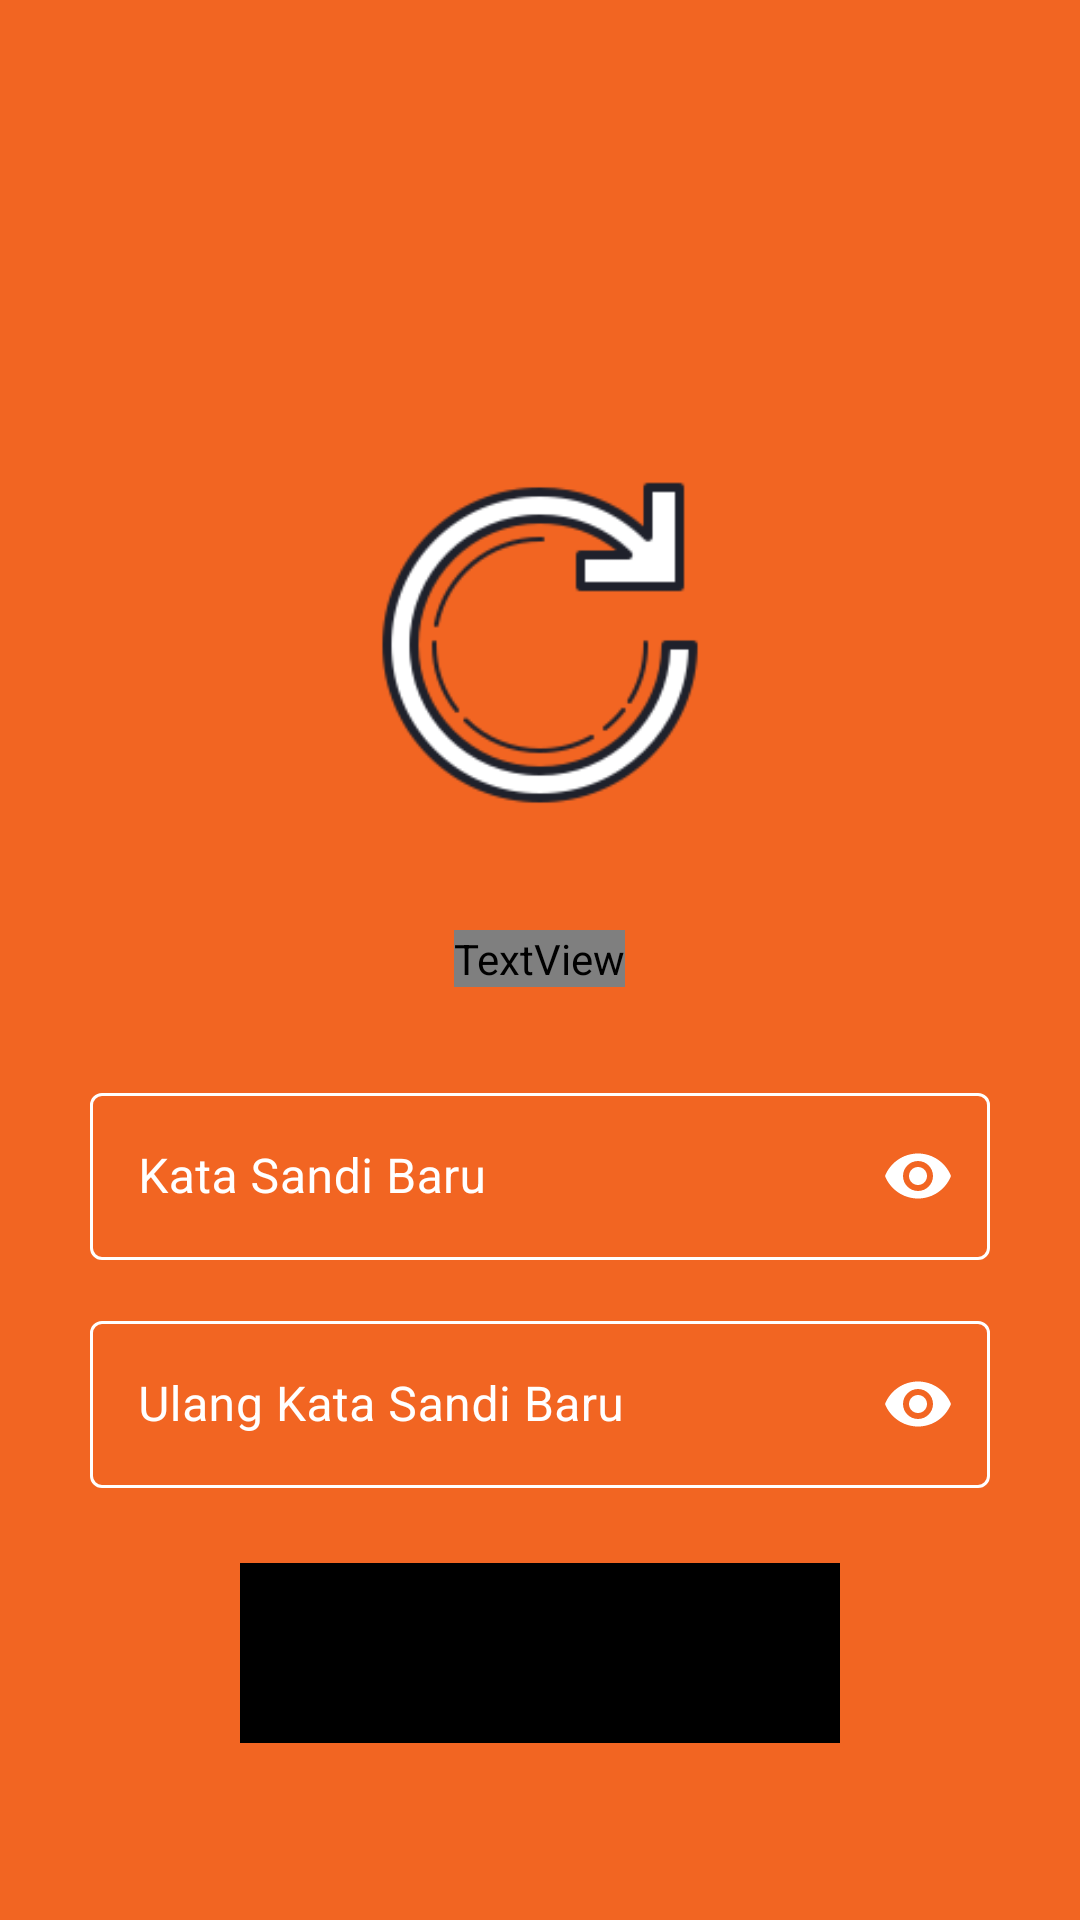

Icon bounding boxes for this 1080w x 1920h phone screenshot, format bbox=[x1, y1, x2, y2]:
reset: bbox=[382, 482, 698, 803]
